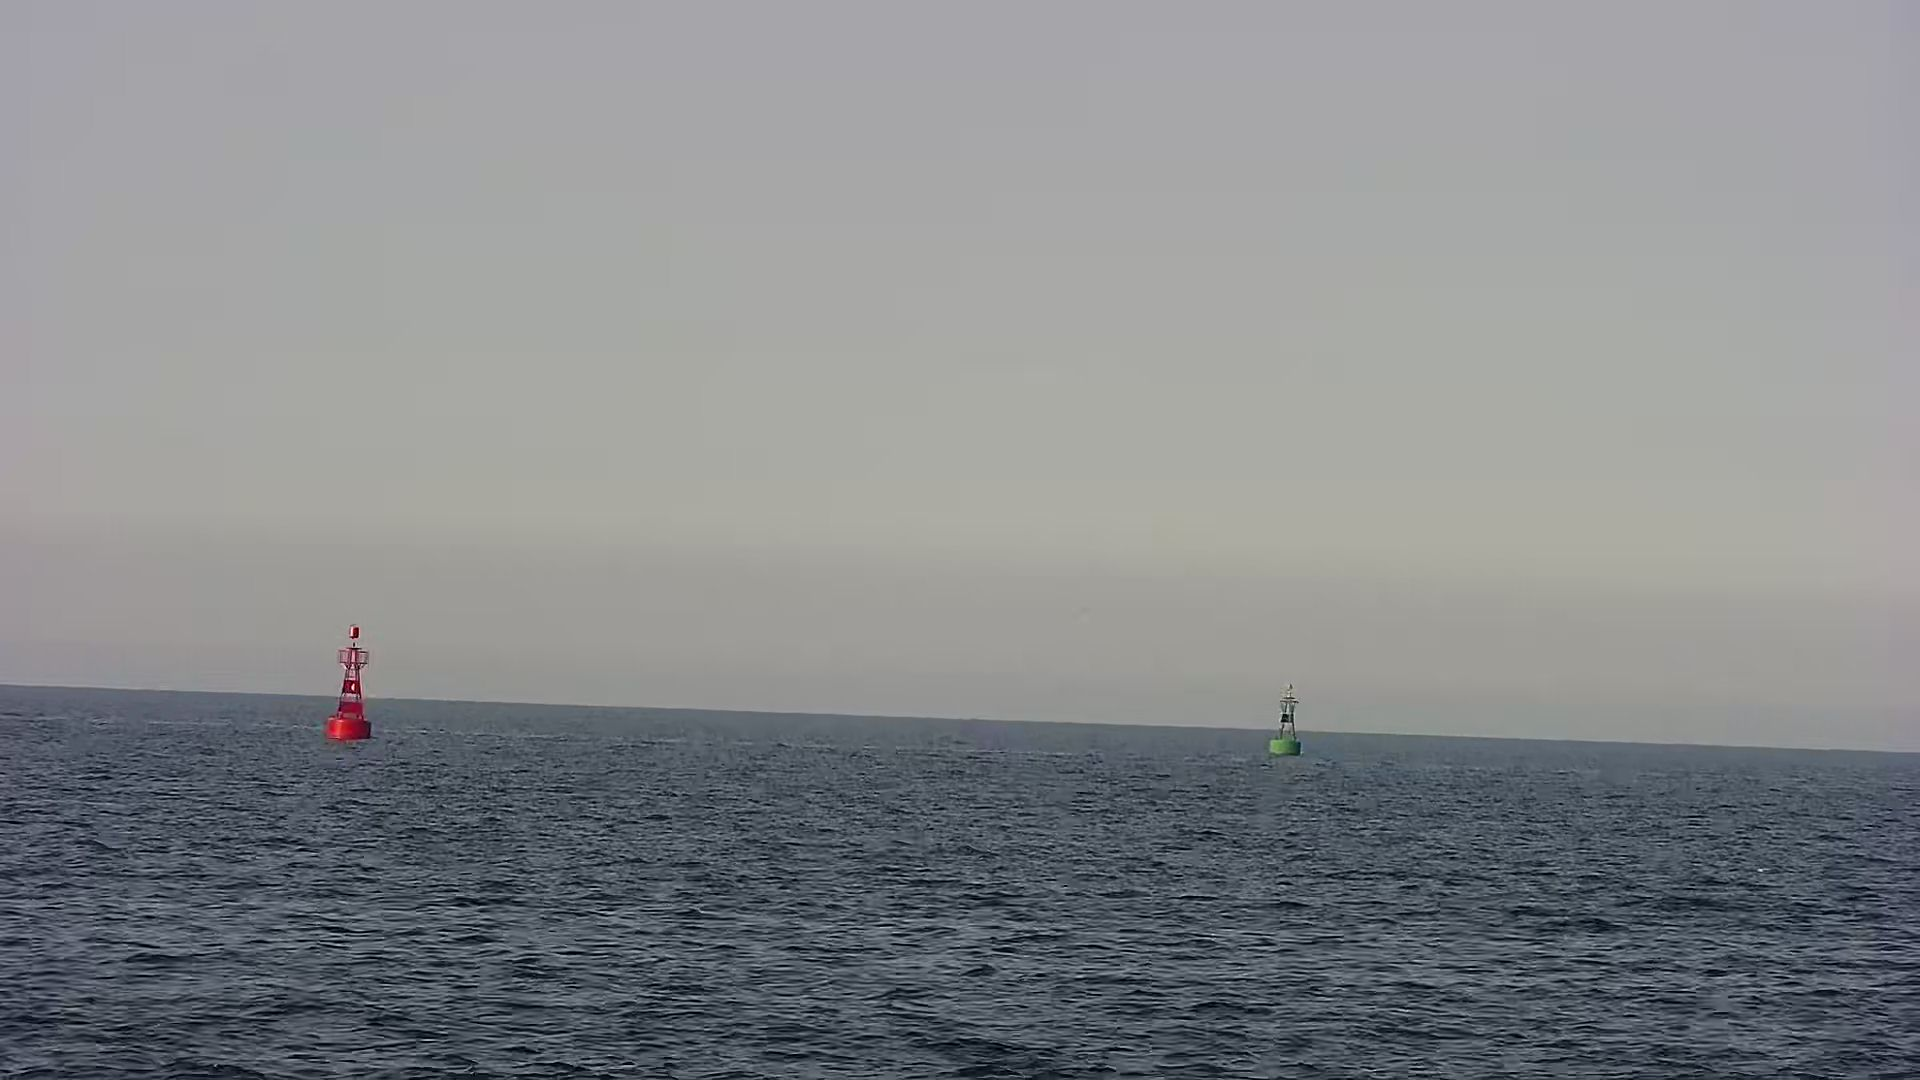buoy: (322, 622, 376, 741), (1269, 688, 1309, 766)
